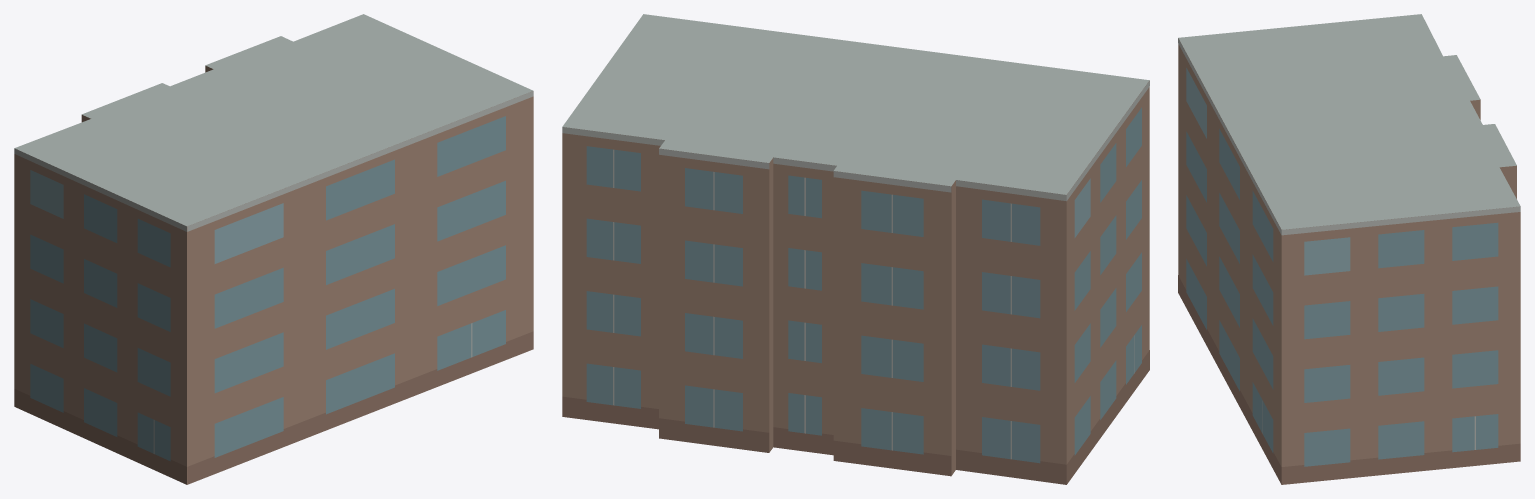
Rendered from survey-upis-32805883.glb.
The picture shows the model from 3 angles, left to right: view 1: azimuth 30°, elevation 25°; view 2: azimuth 150°, elevation 25°; view 3: azimuth 270°, elevation 25°; orthographic projection. The views are drawn at different scales.
Parts seen in each view (by area): view 1: survey-upis-32805883.tmp; view 2: survey-upis-32805883.tmp; view 3: survey-upis-32805883.tmp.
Part boxes in pixels (x1=…): survey-upis-32805883.tmp: x1=14, y1=14, x2=533, y2=484; survey-upis-32805883.tmp: x1=562, y1=14, x2=1149, y2=484; survey-upis-32805883.tmp: x1=1178, y1=14, x2=1520, y2=484.
Size of the model in its own units: 20.52 by 11.3 by 13.76.
